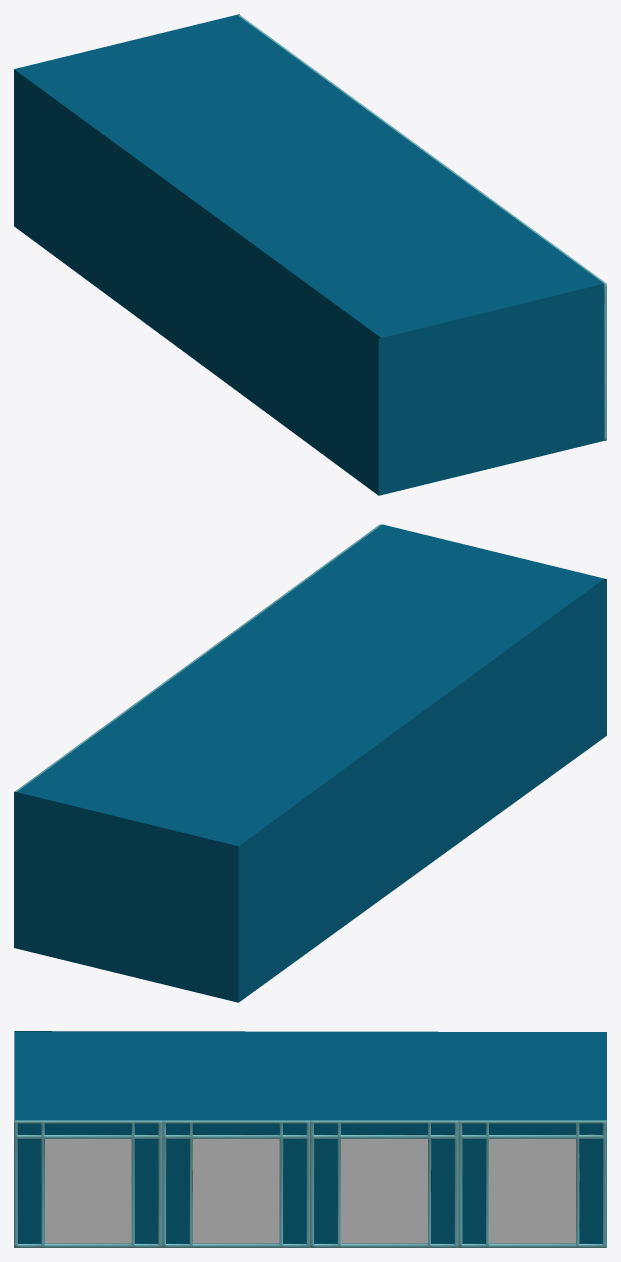
The model's file is Kat-3.fbx.
The picture shows the model from 3 angles, top to bottom: view 1: azimuth 30°, elevation 25°; view 2: azimuth 150°, elevation 25°; view 3: azimuth 270°, elevation 25°; orthographic projection. The views are drawn at different scales.
Parts seen in each view (by area): view 1: Bina-3; view 2: Bina-3; view 3: Bina-3, Bina Cam-3.
Boxes of the visible parts, x1,y1,x2,y2 form: Bina-3: (14, 14, 606, 495); Bina-3: (14, 524, 606, 1002); Bina-3: (14, 1031, 606, 1247); Bina Cam-3: (45, 1139, 575, 1243).
Size of the model in its own units: 205 by 135 by 571.
